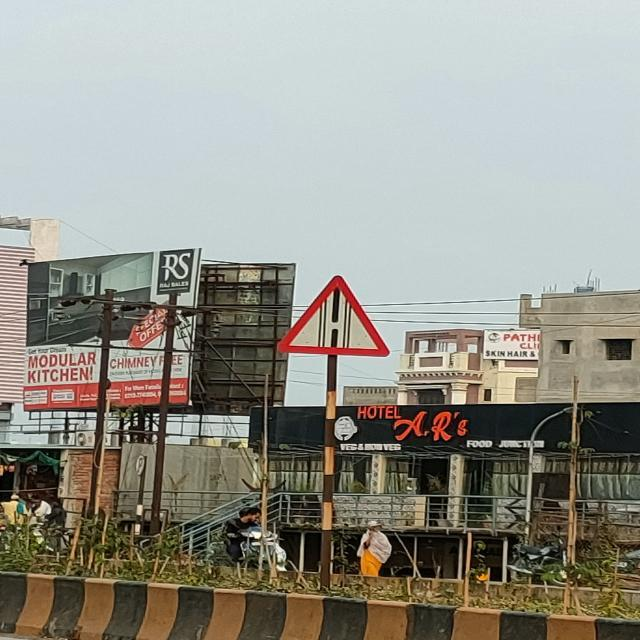gap in median: (272, 270, 395, 359)
